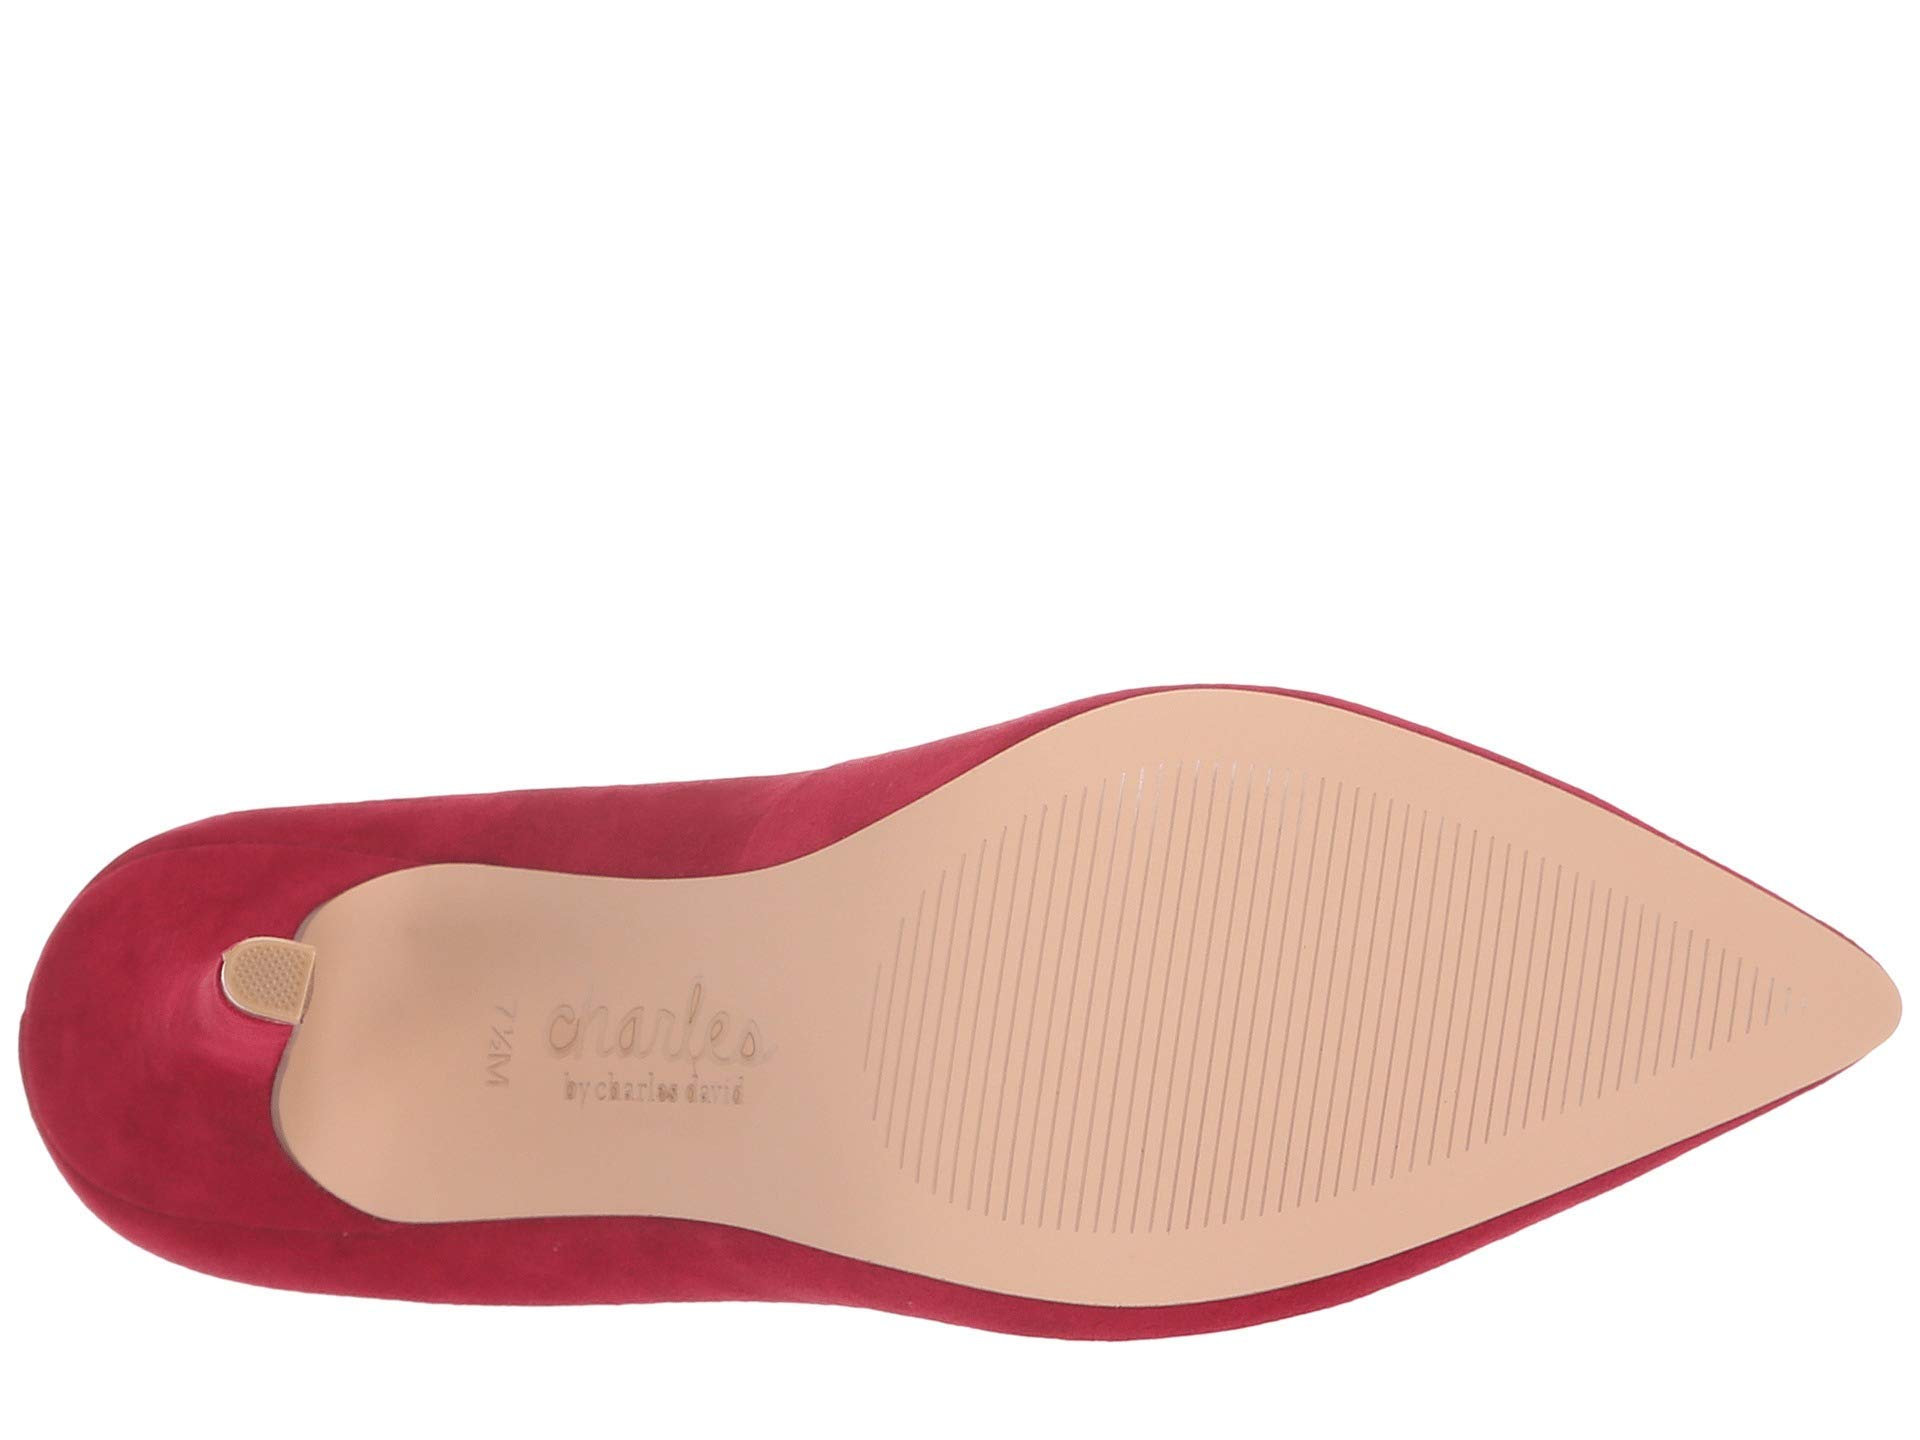line: (1113, 812, 1457, 1150)
